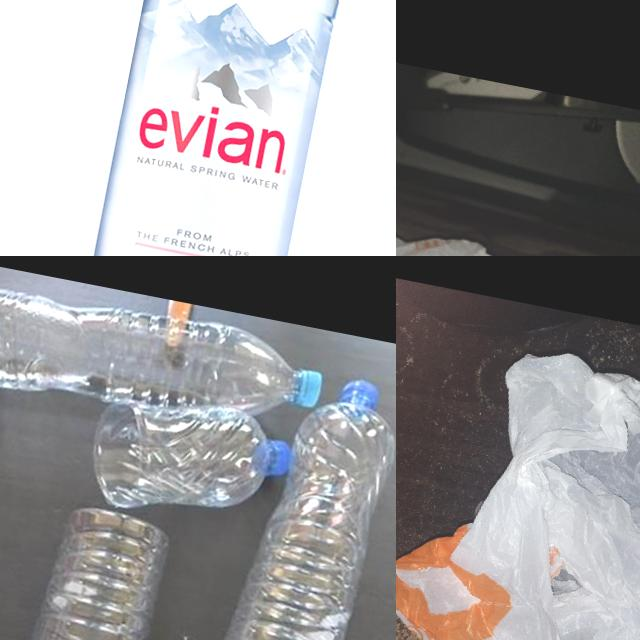garrafa plástica: (75, 0, 372, 256), (0, 277, 309, 446), (194, 384, 396, 640), (80, 386, 280, 536), (11, 500, 173, 640)
sacola plástica: (396, 325, 640, 640), (396, 100, 627, 256)
tampa plástica: (265, 438, 295, 479), (340, 377, 380, 407), (296, 370, 323, 409)
